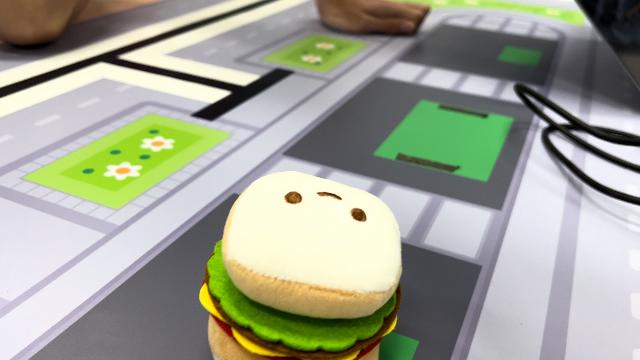sandwich: (197, 168, 406, 358)
